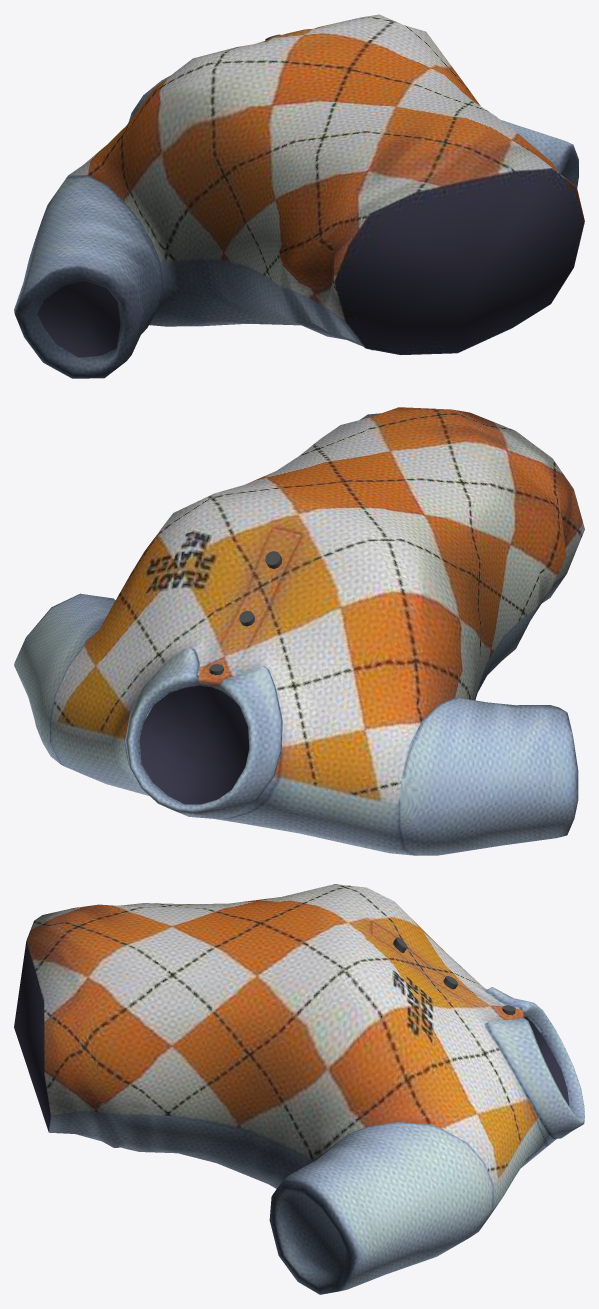
File: Female_Brazil_Body.fbx
3 views of the same model, one above another, from view 1: azimuth 30°, elevation 25°; view 2: azimuth 150°, elevation 25°; view 3: azimuth 270°, elevation 25° (orthographic). The views are drawn at different scales.
Visible parts, largest first — view 1: Wolf3D_Outfit_Top; view 2: Wolf3D_Outfit_Top; view 3: Wolf3D_Outfit_Top.
Part boxes in pixels (box(x1,y1,x2,y2)): Wolf3D_Outfit_Top: box(14, 14, 584, 378); Wolf3D_Outfit_Top: box(14, 407, 584, 855); Wolf3D_Outfit_Top: box(14, 884, 584, 1294).
Bounding box in the file's own units: 49.71 × 23.44 × 45.68.
